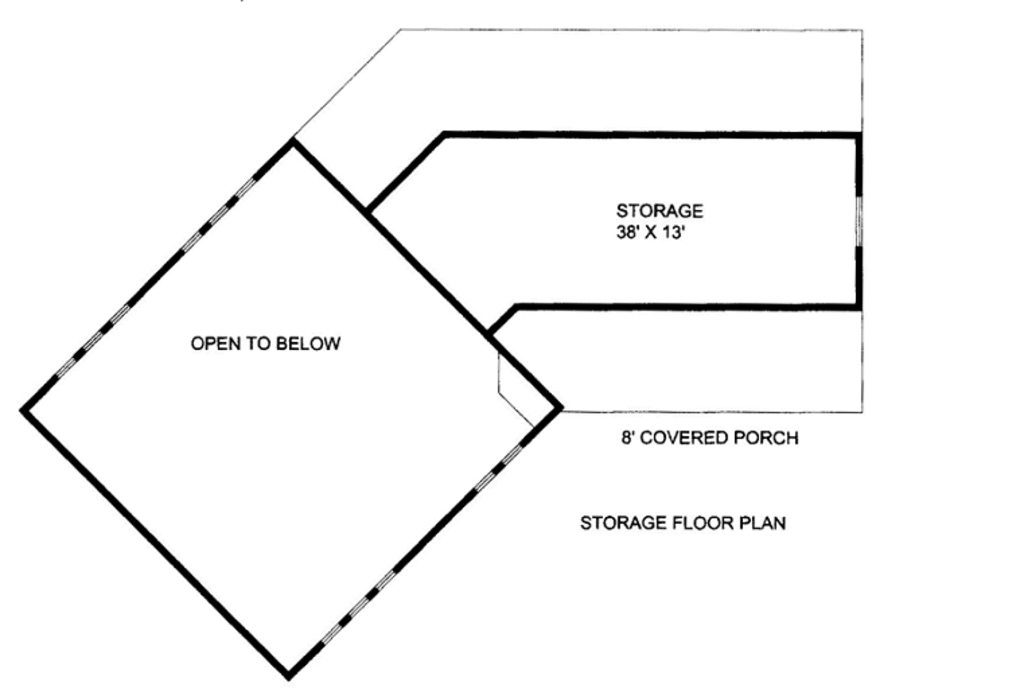window: (180, 173, 279, 249), (317, 567, 404, 645), (53, 302, 139, 376), (454, 435, 531, 495), (850, 194, 871, 251)
